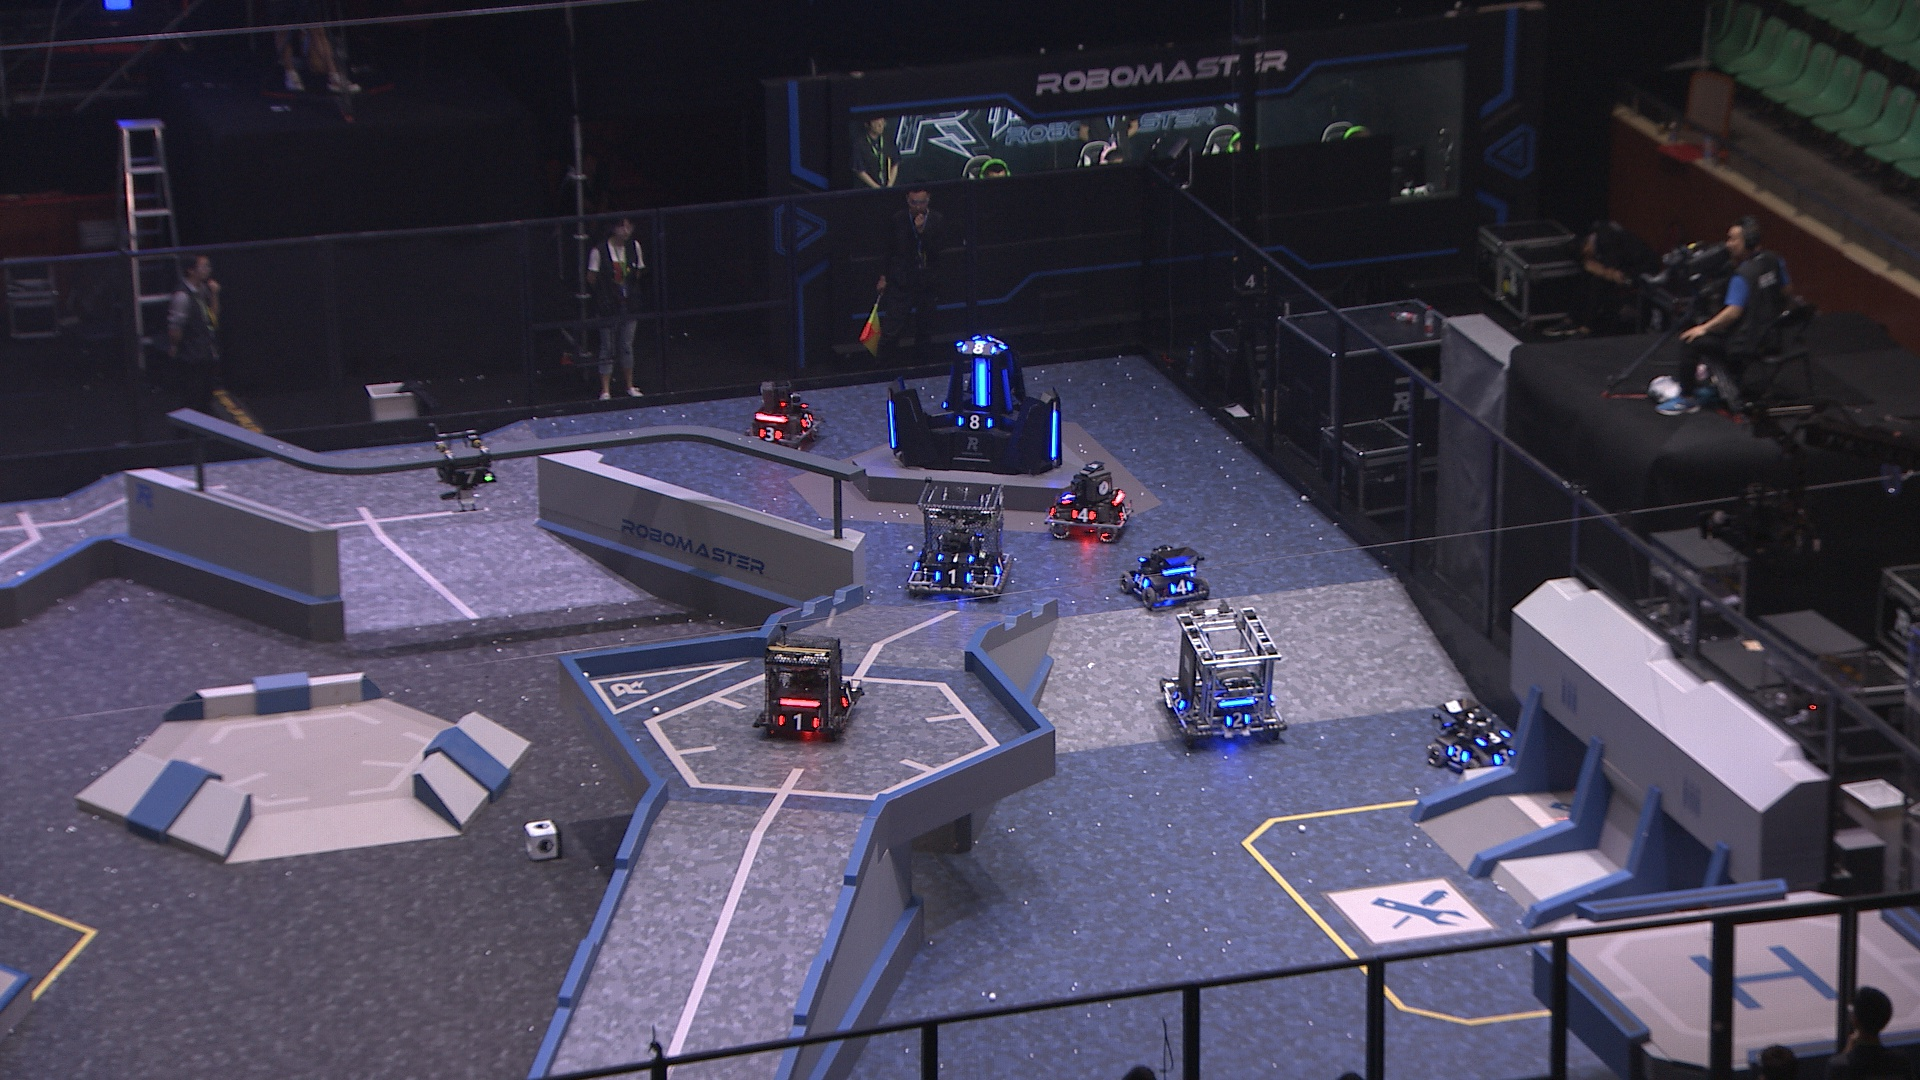armor: (775, 712, 822, 737), (447, 465, 495, 488), (931, 567, 975, 591), (956, 411, 998, 433), (1476, 725, 1510, 750), (961, 338, 998, 357), (1443, 741, 1474, 764), (934, 547, 975, 564), (975, 357, 988, 409), (1001, 367, 1015, 410), (1166, 684, 1189, 711), (1048, 409, 1060, 462), (1494, 746, 1522, 767), (887, 400, 899, 448), (756, 423, 785, 443), (1068, 504, 1097, 524), (835, 687, 858, 711), (796, 406, 818, 429), (1225, 709, 1249, 728), (1055, 488, 1077, 506), (993, 551, 1007, 579), (1168, 579, 1193, 595), (1130, 570, 1149, 589), (1114, 498, 1129, 520)
base: (882, 327, 1065, 475)
car: (1156, 597, 1287, 746), (907, 475, 1021, 599), (752, 626, 864, 742), (1427, 690, 1524, 782), (1043, 460, 1131, 545), (1116, 537, 1211, 609), (738, 377, 823, 452)
watcher: (430, 427, 495, 516)
